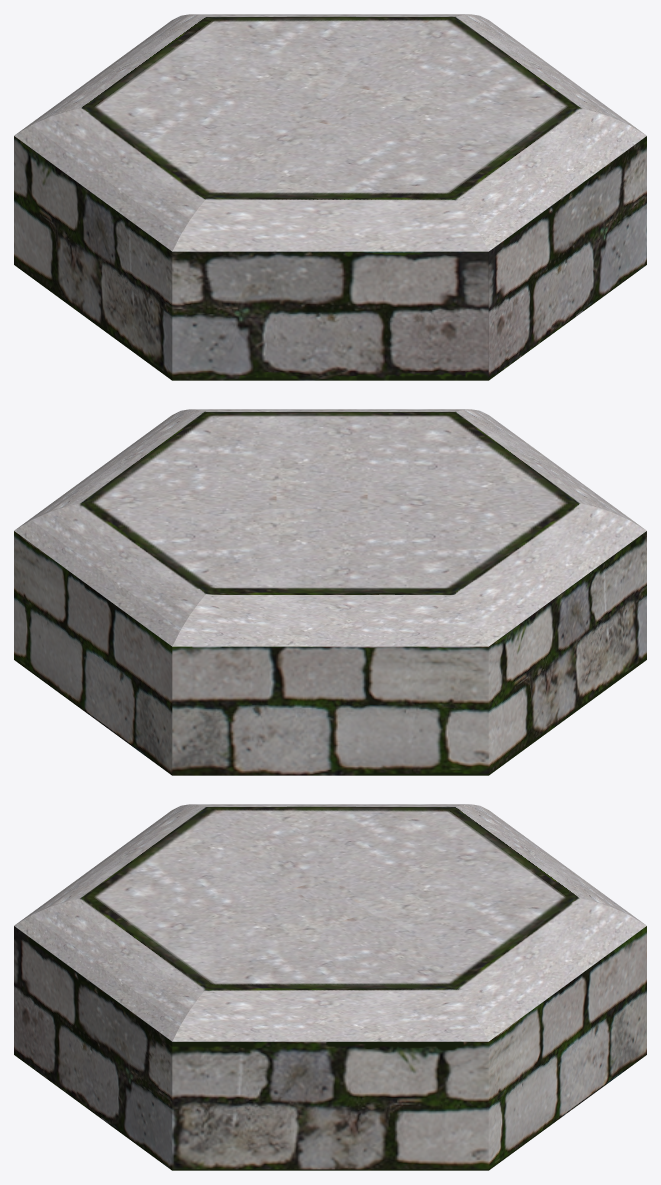
The model's file is DAEcobblestone.dae.
3 views of the same model, one above another, from view 1: azimuth 30°, elevation 25°; view 2: azimuth 150°, elevation 25°; view 3: azimuth 270°, elevation 25° (orthographic).
Parts seen in each view (by area): view 1: PolyLowRes; view 2: PolyLowRes; view 3: PolyLowRes.
Boxes of the visible parts, x1,y1,x2,y2 form: PolyLowRes: (14,14,646,380); PolyLowRes: (14,409,646,775); PolyLowRes: (14,804,646,1170).
Size of the model in its own units: 1.73 by 2 by 0.55.
Materials: 1 (1 with a texture image).
